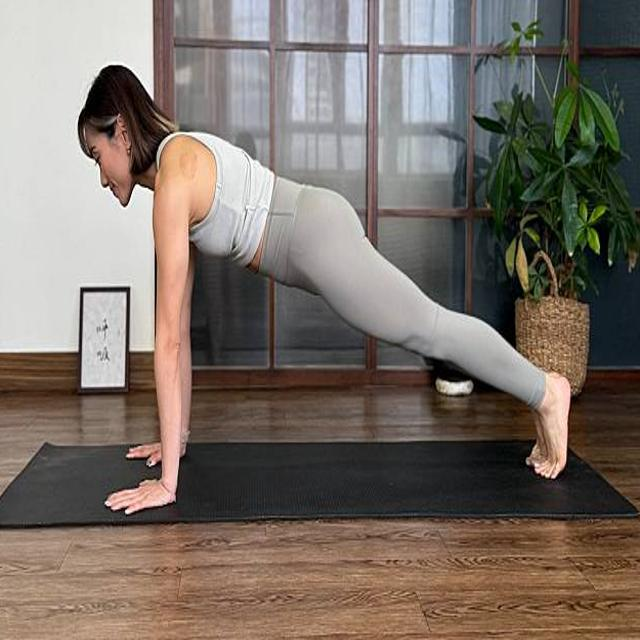Plank_Pose: (69, 53, 571, 523)
